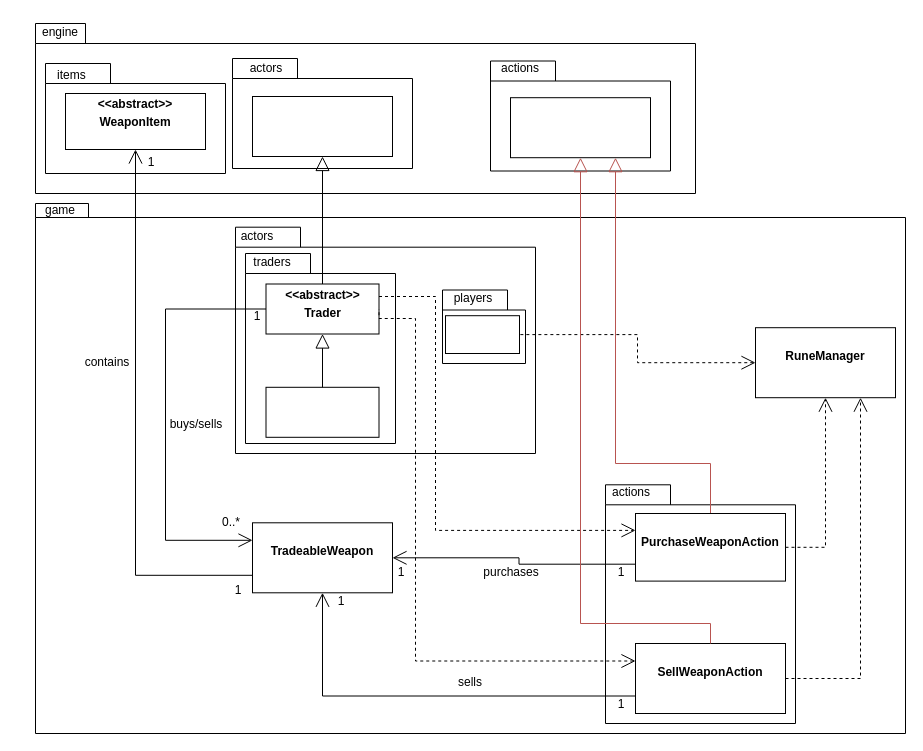
Image size: 923x751. Some labels were removed from this diagram. The shapes that lost their labels are listed below. From the top down, each one's centre as x and y in pixels, then its label:
At point 322,126: "<<abstract>> Actor".
At point 580,127: "<<abstract>> Action".
At point 482,334: "<<abstract>> Player".
At point 322,411: "MerchantKale".
